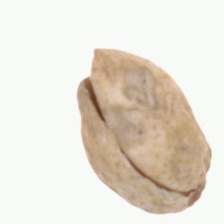L1: (75, 46, 106, 120), (186, 158, 210, 211)
L2: (76, 47, 212, 214)
